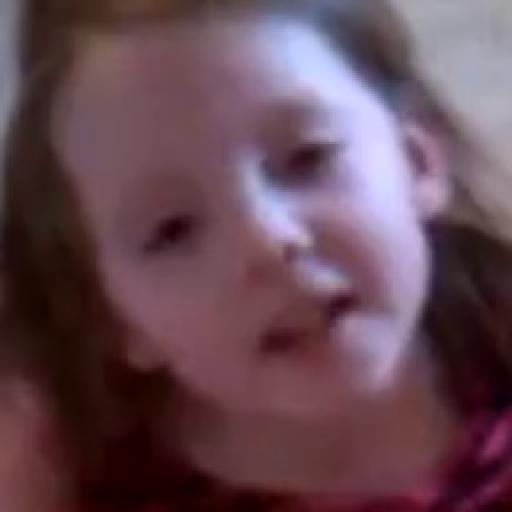Autism: (33, 36, 469, 433)
